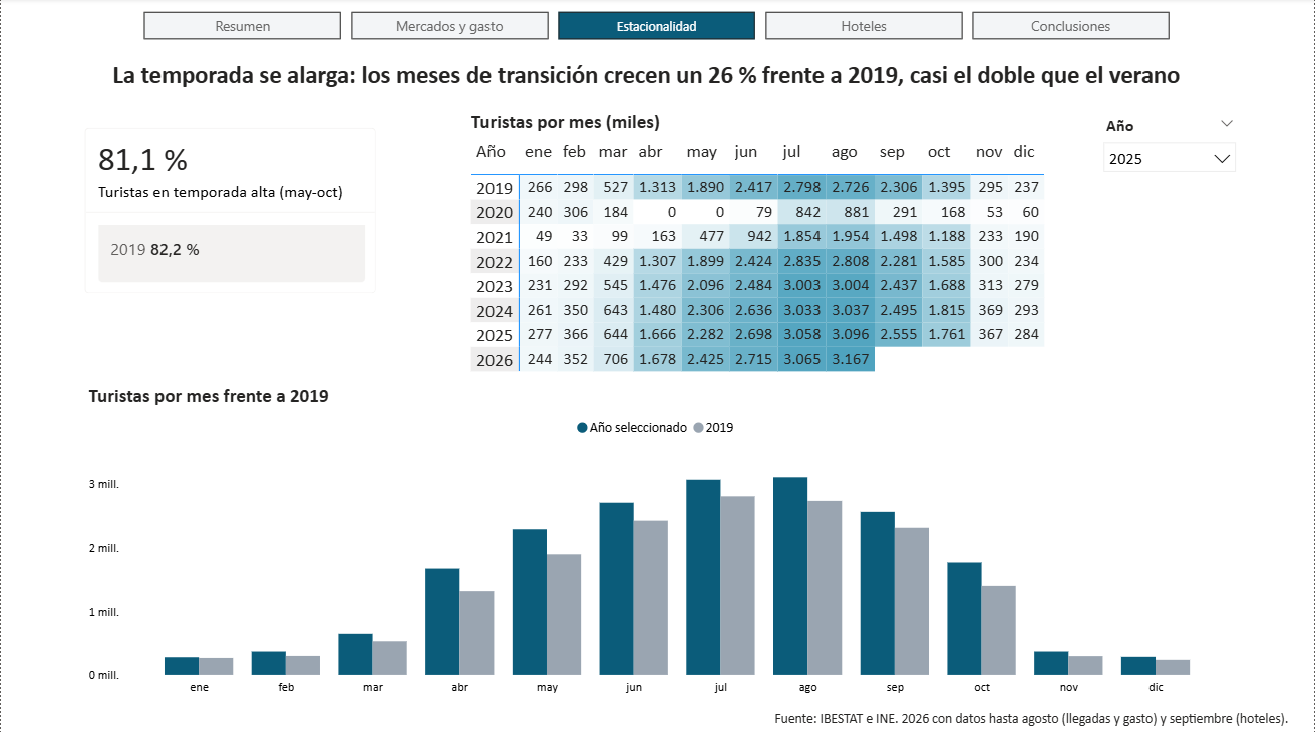

The dashboard page shown, as its layout file describes it:
{"tool":"powerbi","page":{"name":"Estacionalidad","canvas":[1280,720],"ordinal":2},"visuals":[{"type":"textbox","box":[104.3,54.9,1071.7,39.8],"z":0},{"type":"slicer","fields":{"Values":["DimFecha.Año"]},"box":[1064.8,109.8,149.6,68.6],"z":1000},{"type":"textbox","box":[749.2,690.2,516,30.2],"z":2000},{"type":"pivotTable","title":"Turistas por mes (miles)","fields":{"Rows":["DimFecha.Año"],"Columns":["DimFecha.Mes"],"Values":["Medidas.Turistas (miles)"]},"box":[454.2,109.8,569.5,267.6],"z":3000},{"type":"clusteredColumnChart","title":"Turistas por mes frente a 2019","fields":{"Category":["DimFecha.Mes"],"Y":["Medidas.Turistas","Medidas.Turistas 2019"]},"box":[80.7,377.9,1118.9,313.3],"z":4000},{"type":"cardVisual","fields":{"Data":["Medidas.Cuota temporada alta"]},"box":[64.5,109.8,318.4,196.2],"z":5000},{"type":"pageNavigator","box":[140,13,1000.3,27.4],"z":6000}]}

Visuals, with their boxes in screenshot pixels (x1, y1, x2, y2), scaled from the page's 1280x720 canvas onto the 1315x732 screenshot:
textbox: [left=107, top=56, right=1208, bottom=96]
slicer - DimFecha.Año: [left=1094, top=112, right=1248, bottom=181]
textbox: [left=770, top=702, right=1300, bottom=731]
"Turistas por mes (miles)" pivotTable: [left=467, top=112, right=1052, bottom=384]
"Turistas por mes frente a 2019" clusteredColumnChart: [left=83, top=384, right=1232, bottom=703]
cardVisual - Medidas.Cuota temporada alta: [left=66, top=112, right=393, bottom=311]
pageNavigator: [left=144, top=13, right=1171, bottom=41]
